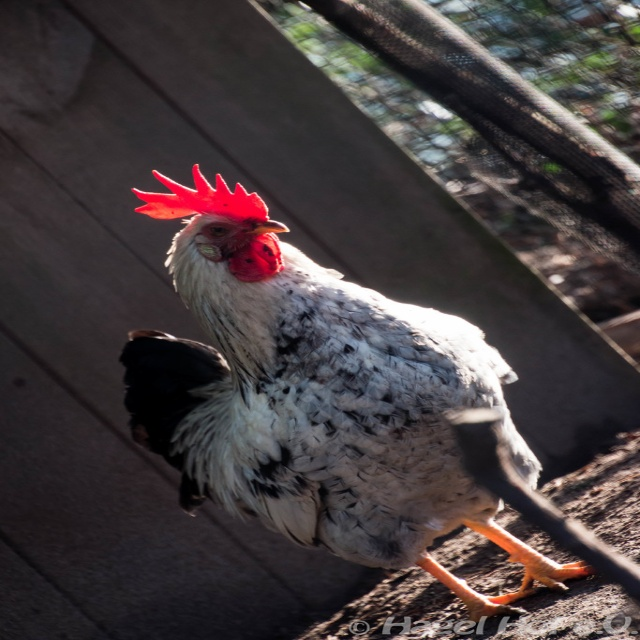Chicken: (115, 180, 586, 612)
